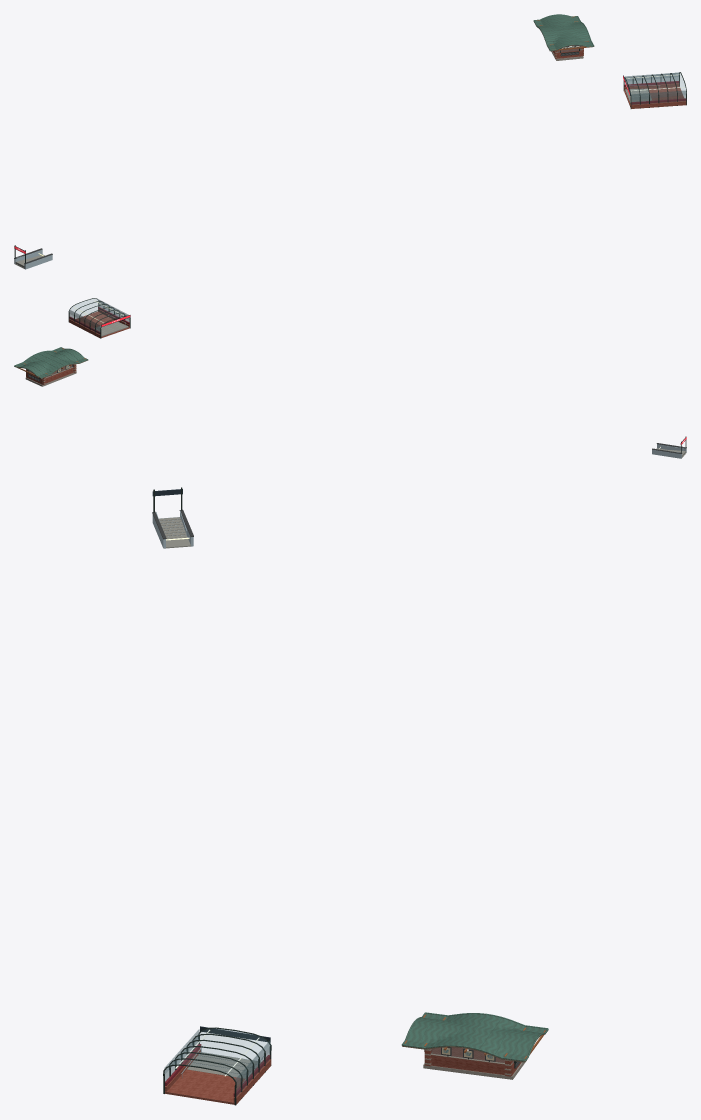
File: place-harsq.glb
3 views of the same model, one above another, from view 1: azimuth 30°, elevation 25°; view 2: azimuth 150°, elevation 25°; view 3: azimuth 270°, elevation 25° (orthographic). The views are drawn at different scales.
Visible parts, largest first — view 1: Harvard Square historic news kiosk.AgedCopper, Harvard Square glazed entrance.GlassRoof, Harvard Square glazed entrance.Glass, Harvard Square glazed entrance.BrickBond, Harvard Square glazed entrance.CastIron; view 2: Harvard Square historic news kiosk.AgedCopper, Harvard Square glazed entrance.GlassRoof, Harvard Square glazed entrance.BrickBond, Harvard Square glazed entrance.Glass, Harvard Square glazed entrance.CastIron, Harvard Square historic news kiosk.BrickBond, Brattle Square stair.Alloy; view 3: Harvard Square historic news kiosk.AgedCopper, Harvard Square glazed entrance.GlassRoof, Harvard Square glazed entrance.BrickBond, Harvard Square historic news kiosk.BrickBond, Harvard Square glazed entrance.CastIron, Harvard Square glazed entrance.DeckConcrete, Harvard Square glazed entrance.Glass.
Boxes of the visible parts, x1,y1,x2,y2 form: Harvard Square historic news kiosk.AgedCopper: [533, 14, 594, 50]; Harvard Square glazed entrance.GlassRoof: [625, 72, 685, 99]; Harvard Square glazed entrance.Glass: [624, 73, 685, 104]; Harvard Square glazed entrance.BrickBond: [624, 83, 686, 108]; Harvard Square glazed entrance.CastIron: [623, 72, 686, 108]; Harvard Square historic news kiosk.AgedCopper: [14, 347, 88, 378]; Harvard Square glazed entrance.GlassRoof: [69, 299, 126, 329]; Harvard Square glazed entrance.BrickBond: [69, 309, 129, 337]; Harvard Square glazed entrance.Glass: [69, 300, 129, 334]; Harvard Square glazed entrance.CastIron: [68, 298, 130, 338]; Harvard Square historic news kiosk.BrickBond: [26, 364, 76, 384]; Brattle Square stair.Alloy: [652, 444, 686, 458]; Harvard Square historic news kiosk.AgedCopper: [401, 1012, 548, 1061]; Harvard Square glazed entrance.GlassRoof: [169, 1028, 270, 1085]; Harvard Square glazed entrance.BrickBond: [165, 1048, 271, 1104]; Harvard Square historic news kiosk.BrickBond: [424, 1047, 521, 1076]; Harvard Square glazed entrance.CastIron: [163, 1027, 271, 1105]; Harvard Square glazed entrance.DeckConcrete: [186, 1052, 261, 1078]; Harvard Square glazed entrance.Glass: [164, 1029, 270, 1096].
Bounding box in the file's own units: 139 × 3.84 × 39.88.
Materials: 21 (5 with a texture image).
